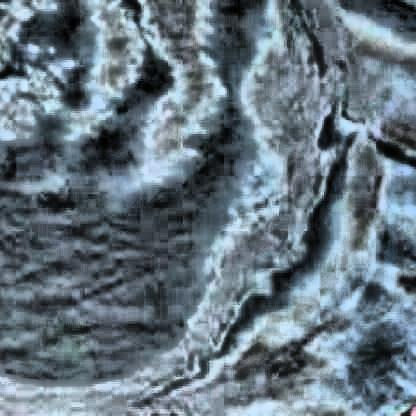sheen: (0, 2, 416, 416), (1, 0, 227, 193)
